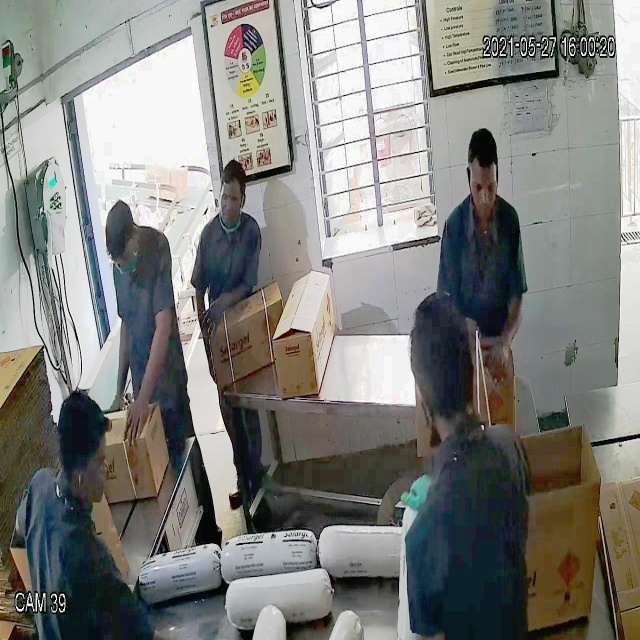Sin_gafas: (461, 168, 503, 203)
